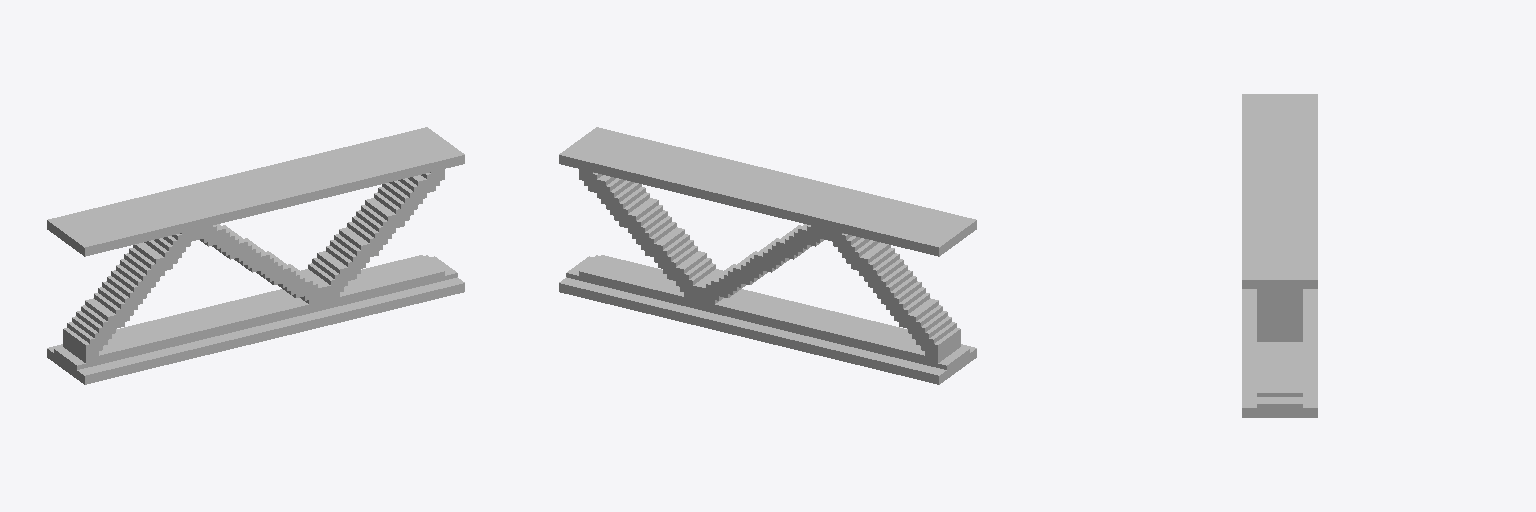
File: poutre 3x1.obj
3 renders of one model, left to right at view 1: azimuth 30°, elevation 25°; view 2: azimuth 150°, elevation 25°; view 3: azimuth 270°, elevation 25°, orthographic.
Size of the model in its own units: 87 by 30 by 15.